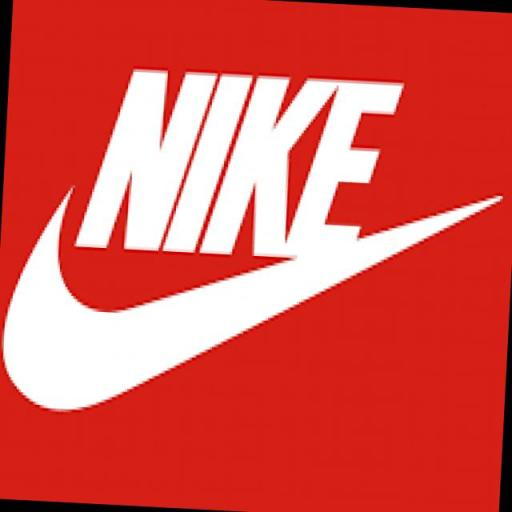Nike: (0, 164, 509, 440), (74, 64, 411, 269)
